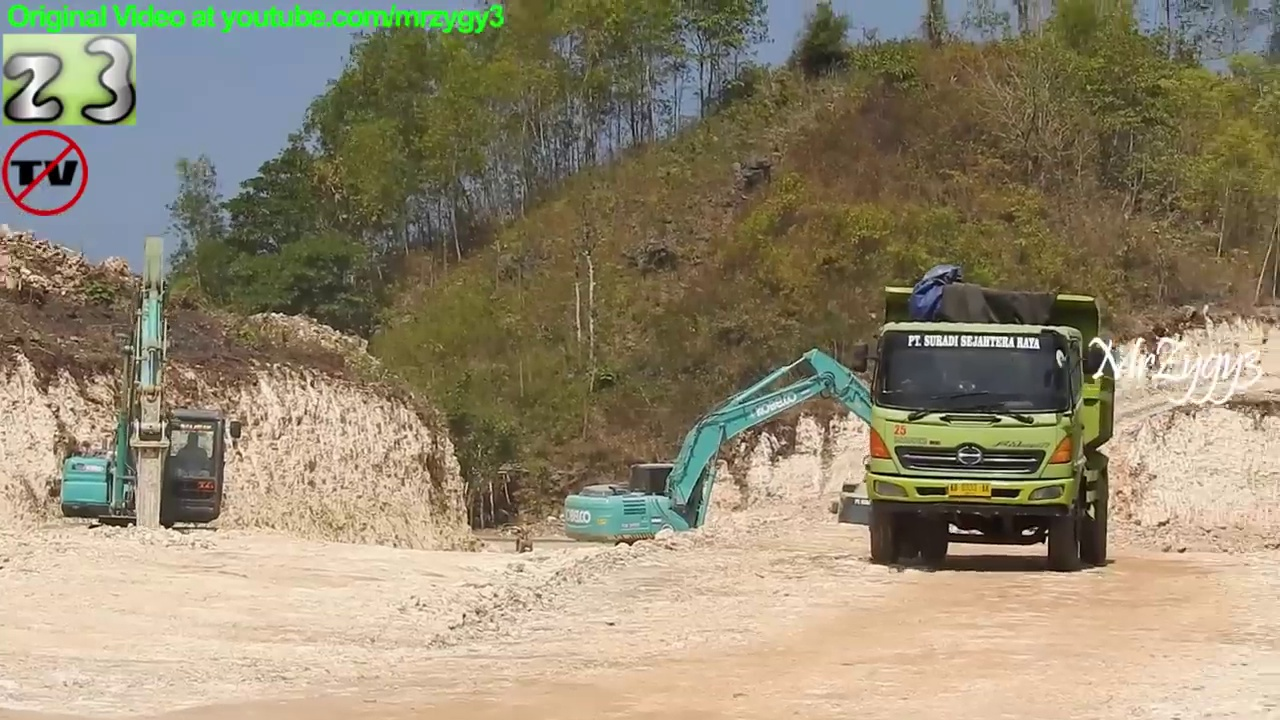excavator: (557, 343, 951, 579), (53, 231, 247, 576)
truck: (865, 279, 1120, 576), (824, 478, 940, 593)
